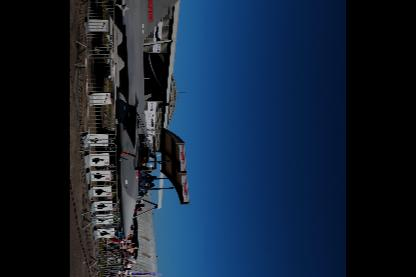JAS39: (93, 0, 180, 258)
